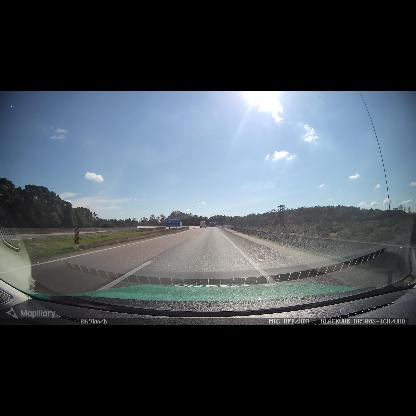O-MP: (74, 226, 79, 244)
